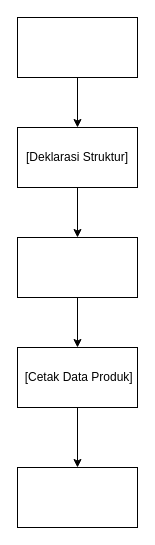
Some shapes in this 155 by 545 pixel diagram are drawn without their labels. The centre of each missing label's shape, as x and y in pixels:
"[Input Data Produk 2]" belongs at [77,267].
"[Mulai]" belongs at [77,47].
